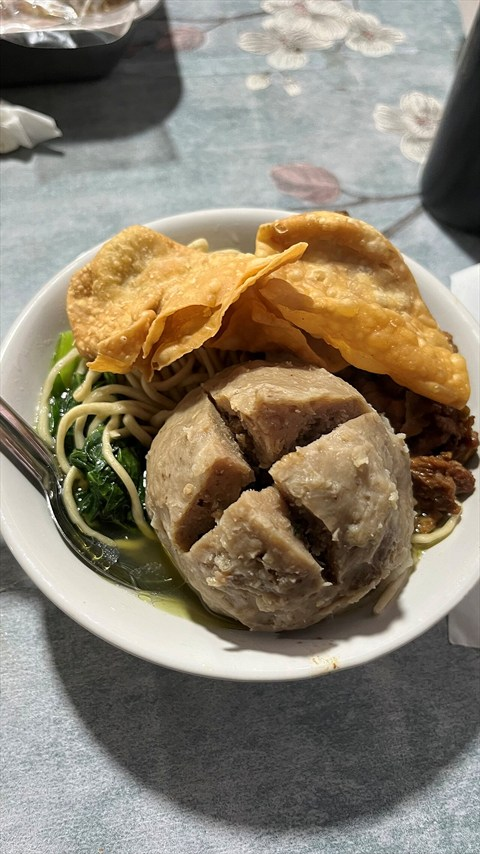Bakso: (49, 212, 449, 670)
